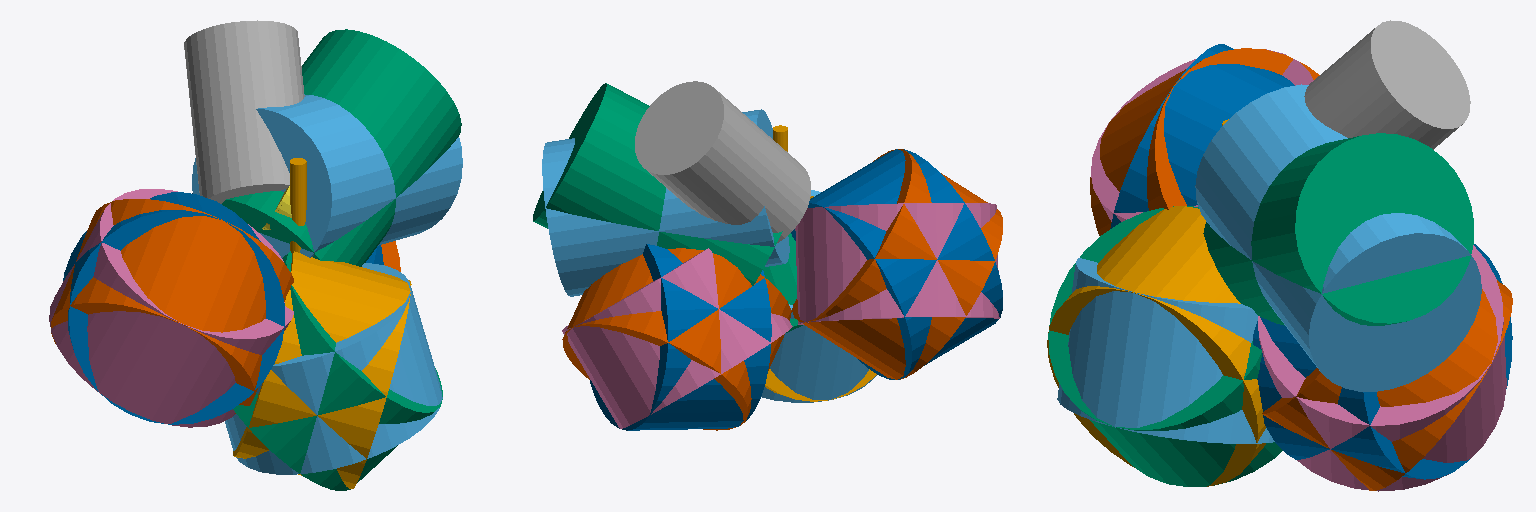
URDF robot description (pepe):
<?xml version="1.0"?><robot name="pepe">
	<link name="0">
		<visual>
			<geometry>
				<cylinder length="1.782818582300527" radius="0.06873508484675162"/>
			</geometry>
		</visual>
		<collision>
			<geometry>
				<cylinder length="1.782818582300527" radius="0.06873508484675162"/>
			</geometry>
		</collision>
		<inertial>
			<mass value="0.026461470263445537"/>
			<inertia ixx="0.03" iyy="0.03" izz="0.03" ixy="0" ixz="0" iyx="0"/>
		</inertial>
	</link>
	<link name="11">
		<visual>
			<geometry>
				<cylinder length="1.9174014299491187" radius="0.6843175568783137"/>
			</geometry>
		</visual>
		<collision>
			<geometry>
				<cylinder length="1.9174014299491187" radius="0.6843175568783137"/>
			</geometry>
		</collision>
		<inertial>
			<mass value="2.820838902805336"/>
			<inertia ixx="0.03" iyy="0.03" izz="0.03" ixy="0" ixz="0" iyx="0"/>
		</inertial>
	</link>
	<link name="12">
		<visual>
			<geometry>
				<cylinder length="1.9174014299491187" radius="0.6843175568783137"/>
			</geometry>
		</visual>
		<collision>
			<geometry>
				<cylinder length="1.9174014299491187" radius="0.6843175568783137"/>
			</geometry>
		</collision>
		<inertial>
			<mass value="2.820838902805336"/>
			<inertia ixx="0.03" iyy="0.03" izz="0.03" ixy="0" ixz="0" iyx="0"/>
		</inertial>
	</link>
	<link name="23">
		<visual>
			<geometry>
				<cylinder length="0.14414354226784654" radius="0.33259035455837094"/>
			</geometry>
		</visual>
		<collision>
			<geometry>
				<cylinder length="0.14414354226784654" radius="0.33259035455837094"/>
			</geometry>
		</collision>
		<inertial>
			<mass value="0.05009153765265805"/>
			<inertia ixx="0.03" iyy="0.03" izz="0.03" ixy="0" ixz="0" iyx="0"/>
		</inertial>
	</link>
	<link name="44">
		<visual>
			<geometry>
				<cylinder length="0.9974609163903414" radius="0.8817646358363196"/>
			</geometry>
		</visual>
		<collision>
			<geometry>
				<cylinder length="0.9974609163903414" radius="0.8817646358363196"/>
			</geometry>
		</collision>
		<inertial>
			<mass value="2.4364141568884206"/>
			<inertia ixx="0.03" iyy="0.03" izz="0.03" ixy="0" ixz="0" iyx="0"/>
		</inertial>
	</link>
	<link name="45">
		<visual>
			<geometry>
				<cylinder length="0.9974609163903414" radius="0.8817646358363196"/>
			</geometry>
		</visual>
		<collision>
			<geometry>
				<cylinder length="0.9974609163903414" radius="0.8817646358363196"/>
			</geometry>
		</collision>
		<inertial>
			<mass value="2.4364141568884206"/>
			<inertia ixx="0.03" iyy="0.03" izz="0.03" ixy="0" ixz="0" iyx="0"/>
		</inertial>
	</link>
	<link name="46">
		<visual>
			<geometry>
				<cylinder length="0.9974609163903414" radius="0.8817646358363196"/>
			</geometry>
		</visual>
		<collision>
			<geometry>
				<cylinder length="0.9974609163903414" radius="0.8817646358363196"/>
			</geometry>
		</collision>
		<inertial>
			<mass value="2.4364141568884206"/>
			<inertia ixx="0.03" iyy="0.03" izz="0.03" ixy="0" ixz="0" iyx="0"/>
		</inertial>
	</link>
	<link name="27">
		<visual>
			<geometry>
				<cylinder length="0.14414354226784654" radius="0.33259035455837094"/>
			</geometry>
		</visual>
		<collision>
			<geometry>
				<cylinder length="0.14414354226784654" radius="0.33259035455837094"/>
			</geometry>
		</collision>
		<inertial>
			<mass value="0.05009153765265805"/>
			<inertia ixx="0.03" iyy="0.03" izz="0.03" ixy="0" ixz="0" iyx="0"/>
		</inertial>
	</link>
	<link name="48">
		<visual>
			<geometry>
				<cylinder length="0.9974609163903414" radius="0.8817646358363196"/>
			</geometry>
		</visual>
		<collision>
			<geometry>
				<cylinder length="0.9974609163903414" radius="0.8817646358363196"/>
			</geometry>
		</collision>
		<inertial>
			<mass value="2.4364141568884206"/>
			<inertia ixx="0.03" iyy="0.03" izz="0.03" ixy="0" ixz="0" iyx="0"/>
		</inertial>
	</link>
	<link name="49">
		<visual>
			<geometry>
				<cylinder length="0.9974609163903414" radius="0.8817646358363196"/>
			</geometry>
		</visual>
		<collision>
			<geometry>
				<cylinder length="0.9974609163903414" radius="0.8817646358363196"/>
			</geometry>
		</collision>
		<inertial>
			<mass value="2.4364141568884206"/>
			<inertia ixx="0.03" iyy="0.03" izz="0.03" ixy="0" ixz="0" iyx="0"/>
		</inertial>
	</link>
	<link name="410">
		<visual>
			<geometry>
				<cylinder length="0.9974609163903414" radius="0.8817646358363196"/>
			</geometry>
		</visual>
		<collision>
			<geometry>
				<cylinder length="0.9974609163903414" radius="0.8817646358363196"/>
			</geometry>
		</collision>
		<inertial>
			<mass value="2.4364141568884206"/>
			<inertia ixx="0.03" iyy="0.03" izz="0.03" ixy="0" ixz="0" iyx="0"/>
		</inertial>
	</link>
	<link name="211">
		<visual>
			<geometry>
				<cylinder length="0.14414354226784654" radius="0.33259035455837094"/>
			</geometry>
		</visual>
		<collision>
			<geometry>
				<cylinder length="0.14414354226784654" radius="0.33259035455837094"/>
			</geometry>
		</collision>
		<inertial>
			<mass value="0.05009153765265805"/>
			<inertia ixx="0.03" iyy="0.03" izz="0.03" ixy="0" ixz="0" iyx="0"/>
		</inertial>
	</link>
	<link name="412">
		<visual>
			<geometry>
				<cylinder length="0.9974609163903414" radius="0.8817646358363196"/>
			</geometry>
		</visual>
		<collision>
			<geometry>
				<cylinder length="0.9974609163903414" radius="0.8817646358363196"/>
			</geometry>
		</collision>
		<inertial>
			<mass value="2.4364141568884206"/>
			<inertia ixx="0.03" iyy="0.03" izz="0.03" ixy="0" ixz="0" iyx="0"/>
		</inertial>
	</link>
	<link name="413">
		<visual>
			<geometry>
				<cylinder length="0.9974609163903414" radius="0.8817646358363196"/>
			</geometry>
		</visual>
		<collision>
			<geometry>
				<cylinder length="0.9974609163903414" radius="0.8817646358363196"/>
			</geometry>
		</collision>
		<inertial>
			<mass value="2.4364141568884206"/>
			<inertia ixx="0.03" iyy="0.03" izz="0.03" ixy="0" ixz="0" iyx="0"/>
		</inertial>
	</link>
	<link name="414">
		<visual>
			<geometry>
				<cylinder length="0.9974609163903414" radius="0.8817646358363196"/>
			</geometry>
		</visual>
		<collision>
			<geometry>
				<cylinder length="0.9974609163903414" radius="0.8817646358363196"/>
			</geometry>
		</collision>
		<inertial>
			<mass value="2.4364141568884206"/>
			<inertia ixx="0.03" iyy="0.03" izz="0.03" ixy="0" ixz="0" iyx="0"/>
		</inertial>
	</link>
	<link name="315">
		<visual>
			<geometry>
				<cylinder length="1.406002170247849" radius="0.4667985906290447"/>
			</geometry>
		</visual>
		<collision>
			<geometry>
				<cylinder length="1.406002170247849" radius="0.4667985906290447"/>
			</geometry>
		</collision>
		<inertial>
			<mass value="0.9624871411187114"/>
			<inertia ixx="0.03" iyy="0.03" izz="0.03" ixy="0" ixz="0" iyx="0"/>
		</inertial>
	</link>
	<joint name="11_to_0" type="revolute">
		<parent link="0"/>
		<child link="11"/>
		<axis xyz="0 1 0"/>
		<limit effort="1" upper="-3.1415" lower="3.1415" velocity="1"/>
		<origin rpy="11.198334270956737 3.2064749172484666 5.145150771329979" xyz="0.7130420784379119 0.7629211842074637 0.3156712155003525"/>
	</joint>
	<joint name="12_to_0" type="revolute">
		<parent link="0"/>
		<child link="12"/>
		<axis xyz="0 1 0"/>
		<limit effort="1" upper="-3.1415" lower="3.1415" velocity="1"/>
		<origin rpy="16.797501406435106 3.2064749172484666 5.145150771329979" xyz="0.7130420784379119 0.7629211842074637 0.3156712155003525"/>
	</joint>
	<joint name="23_to_0" type="revolute">
		<parent link="0"/>
		<child link="23"/>
		<axis xyz="0 1 0"/>
		<limit effort="1" upper="-3.1415" lower="3.1415" velocity="1"/>
		<origin rpy="6.411006896105116 2.090178942637596 5.834936627392341" xyz="0.08088013720872544 0.2940461235133075 0.4259772665092817"/>
	</joint>
	<joint name="44_to_23" type="revolute">
		<parent link="23"/>
		<child link="44"/>
		<axis xyz="0 1 0"/>
		<limit effort="1" upper="-3.1415" lower="3.1415" velocity="1"/>
		<origin rpy="4.228388258067226 4.803872027729986 0.7181365970073609" xyz="0.9947024869954794 0.9115878715805592 0.42052377223728166"/>
	</joint>
	<joint name="45_to_23" type="revolute">
		<parent link="23"/>
		<child link="45"/>
		<axis xyz="0 1 0"/>
		<limit effort="1" upper="-3.1415" lower="3.1415" velocity="1"/>
		<origin rpy="6.342582387100839 4.803872027729986 0.7181365970073609" xyz="0.9947024869954794 0.9115878715805592 0.42052377223728166"/>
	</joint>
	<joint name="46_to_23" type="revolute">
		<parent link="23"/>
		<child link="46"/>
		<axis xyz="0 1 0"/>
		<limit effort="1" upper="-3.1415" lower="3.1415" velocity="1"/>
		<origin rpy="8.456776516134452 4.803872027729986 0.7181365970073609" xyz="0.9947024869954794 0.9115878715805592 0.42052377223728166"/>
	</joint>
	<joint name="27_to_0" type="revolute">
		<parent link="0"/>
		<child link="27"/>
		<axis xyz="0 1 0"/>
		<limit effort="1" upper="-3.1415" lower="3.1415" velocity="1"/>
		<origin rpy="8.013758620131394 2.090178942637596 5.834936627392341" xyz="0.08088013720872544 0.2940461235133075 0.4259772665092817"/>
	</joint>
	<joint name="48_to_27" type="revolute">
		<parent link="27"/>
		<child link="48"/>
		<axis xyz="0 1 0"/>
		<limit effort="1" upper="-3.1415" lower="3.1415" velocity="1"/>
		<origin rpy="4.228388258067226 4.803872027729986 0.7181365970073609" xyz="0.9947024869954794 0.9115878715805592 0.42052377223728166"/>
	</joint>
	<joint name="49_to_27" type="revolute">
		<parent link="27"/>
		<child link="49"/>
		<axis xyz="0 1 0"/>
		<limit effort="1" upper="-3.1415" lower="3.1415" velocity="1"/>
		<origin rpy="6.342582387100839 4.803872027729986 0.7181365970073609" xyz="0.9947024869954794 0.9115878715805592 0.42052377223728166"/>
	</joint>
	<joint name="410_to_27" type="revolute">
		<parent link="27"/>
		<child link="410"/>
		<axis xyz="0 1 0"/>
		<limit effort="1" upper="-3.1415" lower="3.1415" velocity="1"/>
		<origin rpy="8.456776516134452 4.803872027729986 0.7181365970073609" xyz="0.9947024869954794 0.9115878715805592 0.42052377223728166"/>
	</joint>
	<joint name="211_to_0" type="revolute">
		<parent link="0"/>
		<child link="211"/>
		<axis xyz="0 1 0"/>
		<limit effort="1" upper="-3.1415" lower="3.1415" velocity="1"/>
		<origin rpy="9.616510344157675 2.090178942637596 5.834936627392341" xyz="0.08088013720872544 0.2940461235133075 0.4259772665092817"/>
	</joint>
	<joint name="412_to_211" type="revolute">
		<parent link="211"/>
		<child link="412"/>
		<axis xyz="0 1 0"/>
		<limit effort="1" upper="-3.1415" lower="3.1415" velocity="1"/>
		<origin rpy="4.228388258067226 4.803872027729986 0.7181365970073609" xyz="0.9947024869954794 0.9115878715805592 0.42052377223728166"/>
	</joint>
	<joint name="413_to_211" type="revolute">
		<parent link="211"/>
		<child link="413"/>
		<axis xyz="0 1 0"/>
		<limit effort="1" upper="-3.1415" lower="3.1415" velocity="1"/>
		<origin rpy="6.342582387100839 4.803872027729986 0.7181365970073609" xyz="0.9947024869954794 0.9115878715805592 0.42052377223728166"/>
	</joint>
	<joint name="414_to_211" type="revolute">
		<parent link="211"/>
		<child link="414"/>
		<axis xyz="0 1 0"/>
		<limit effort="1" upper="-3.1415" lower="3.1415" velocity="1"/>
		<origin rpy="8.456776516134452 4.803872027729986 0.7181365970073609" xyz="0.9947024869954794 0.9115878715805592 0.42052377223728166"/>
	</joint>
	<joint name="315_to_0" type="revolute">
		<parent link="0"/>
		<child link="315"/>
		<axis xyz="1 0 0"/>
		<limit effort="1" upper="-3.1415" lower="3.1415" velocity="1"/>
		<origin rpy="11.968451865861002 0.5012287084505334 0.23479771130700278" xyz="0.062038198068946726 0.8985964494855719 0.8752918480979894"/>
	</joint>
</robot>

--- What the picture shows (computed from the rendered views, not written in the file) ---
Views: 3 orthographic renders of the robot side by side, from view 1: azimuth 30°, elevation 25°; view 2: azimuth 150°, elevation 25°; view 3: azimuth 270°, elevation 25°.
Robot: pepe — 16 links, 15 joints (15 revolute); root link 0; default pose: every joint at zero.
Visible links, largest first — view 1: 12, 413, 414, 315, 11, 48, 49, 410, 412, 0; view 2: 315, 12, 46, 414, 413, 412, 11, 44, 45, 49, 410, 48; view 3: 11, 12, 49, 48, 315, 46, 410, 45, 412, 413, 44, 414.
Boxes of the visible links, x1,y1,x2,y2 form: 12: [222, 29, 461, 266]; 413: [51, 199, 293, 413]; 414: [49, 189, 293, 427]; 315: [184, 20, 304, 203]; 11: [192, 94, 462, 257]; 48: [233, 251, 411, 488]; 49: [225, 263, 442, 474]; 410: [233, 251, 442, 490]; 412: [63, 192, 284, 424]; 0: [290, 158, 306, 253]; 315: [635, 81, 810, 242]; 12: [533, 83, 782, 285]; 46: [562, 248, 792, 428]; 414: [795, 203, 999, 324]; 413: [792, 149, 1002, 379]; 412: [791, 149, 1002, 379]; 11: [542, 109, 789, 296]; 44: [590, 244, 771, 430]; 45: [562, 248, 791, 430]; 49: [761, 190, 876, 402]; 410: [763, 233, 802, 332]; 48: [765, 196, 876, 401]; 11: [1195, 84, 1481, 391]; 12: [1203, 133, 1473, 325]; 49: [1057, 258, 1274, 443]; 48: [1047, 206, 1265, 486]; 315: [1304, 20, 1470, 149]; 46: [1258, 245, 1506, 491]; 410: [1048, 206, 1282, 486]; 45: [1262, 280, 1512, 490]; 412: [1110, 44, 1294, 228]; 413: [1090, 48, 1319, 235]; 44: [1253, 244, 1512, 479]; 414: [1091, 49, 1313, 221].
Size in the robot's own frame: 4.08 by 3.33 by 3.54 metres.
Geometry: primitives only (box / cylinder / sphere), no mesh files.
